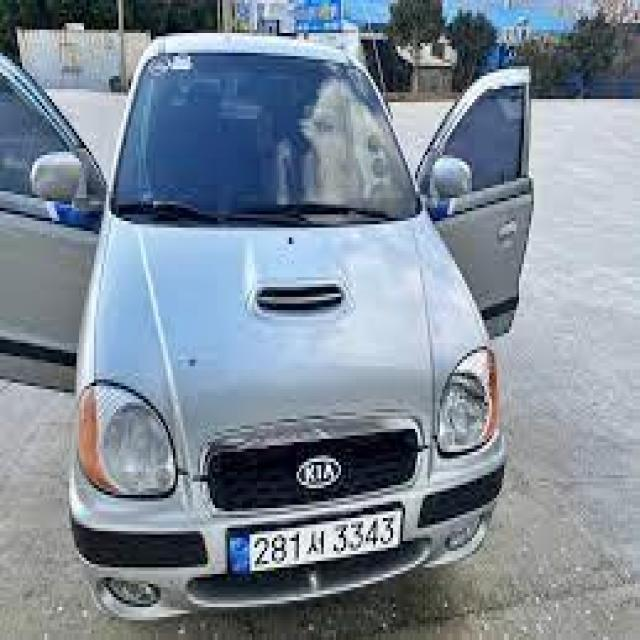car: (7, 28, 554, 622)
illegal_plate: (226, 507, 410, 583)
